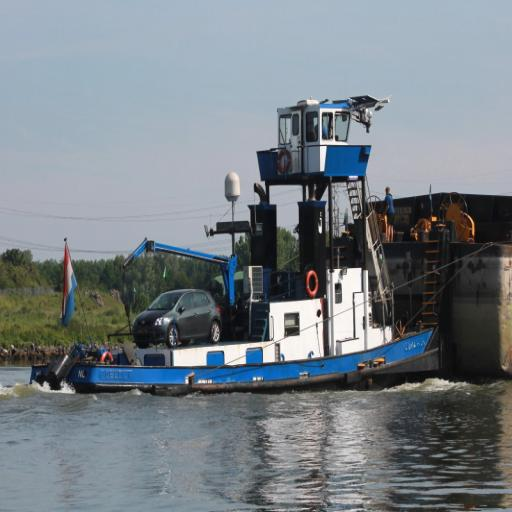tugboat: (26, 89, 453, 405)
